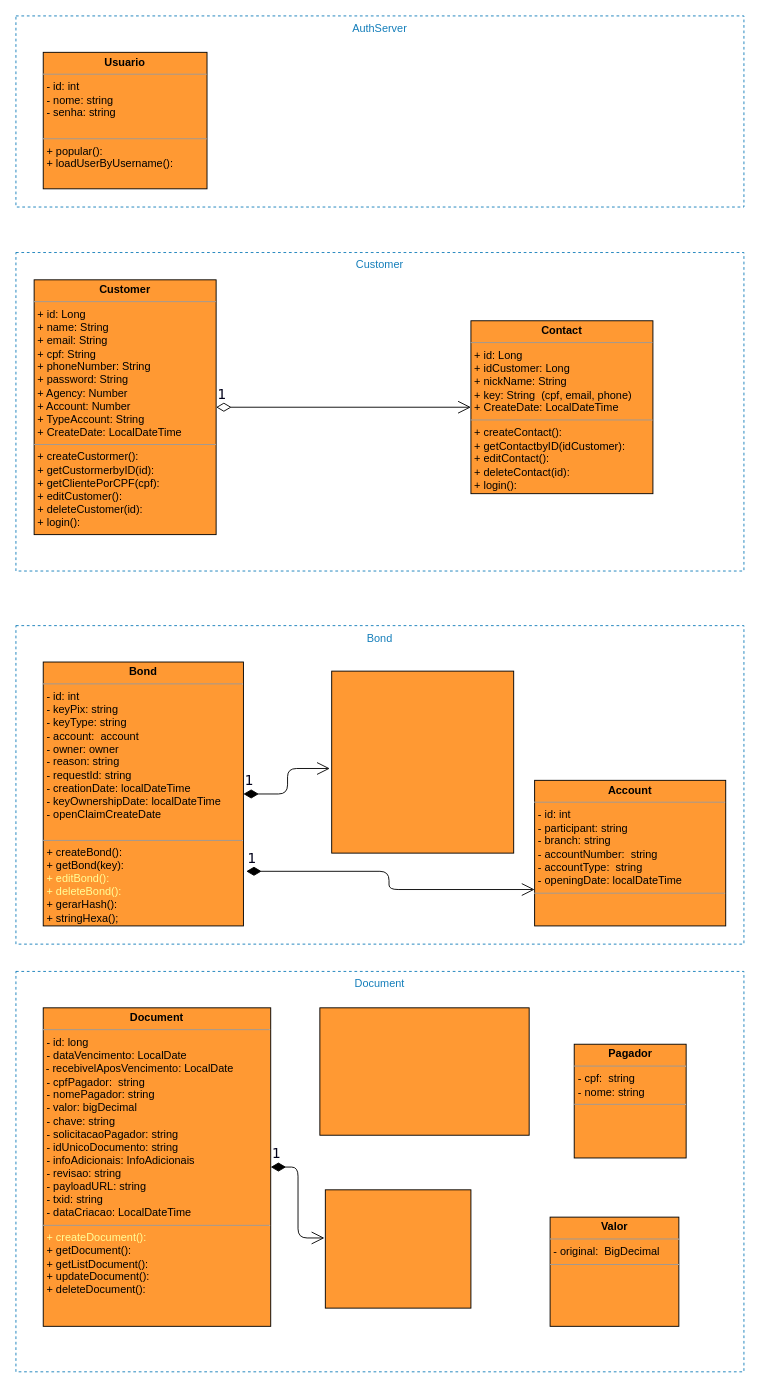
Some shapes in this 760 by 1388 pixel diagram are drawn without their labels. The centre of each missing label's shape, as x and y in pixels:
"Calendario - dataVencimento: LocalDate - recebivelAposVencimento: LocalDate" belongs at pixel 424 1071.
"InfoAdicionais - id: long - nome: string - valor: string" belongs at pixel 397 1248.
"Owner - id: int - type: string - taxIdNumber: string - name: string" belongs at pixel 422 761.
